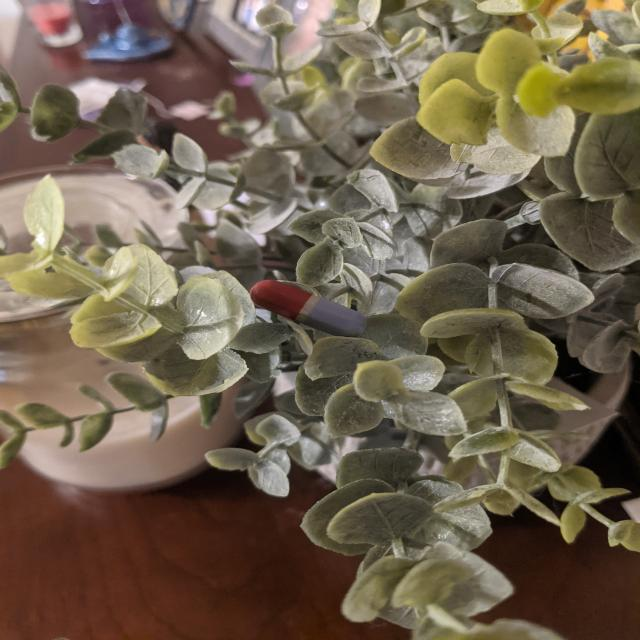non-organic waste: (248, 278, 368, 340)
